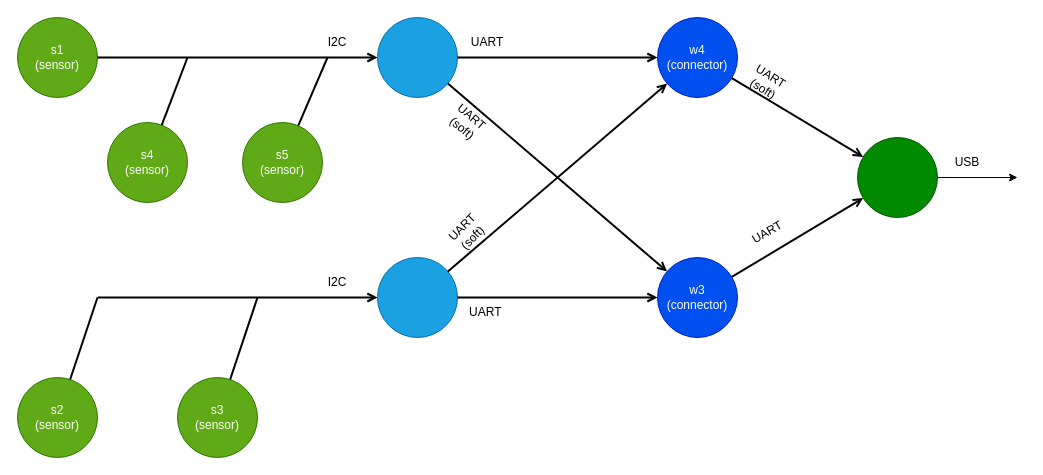
Some shapes in this 1043 by 475 pixel diagram are drawn without their labels. The shapes that lost their labels are listed below. From the top down, each one's centre as x and y in pixels, then its label:
At (x=417, y=57): "w1 (repeater)".
At (x=897, y=177): "w0 (master)".
At (x=417, y=297): "w2 (repeater)".
